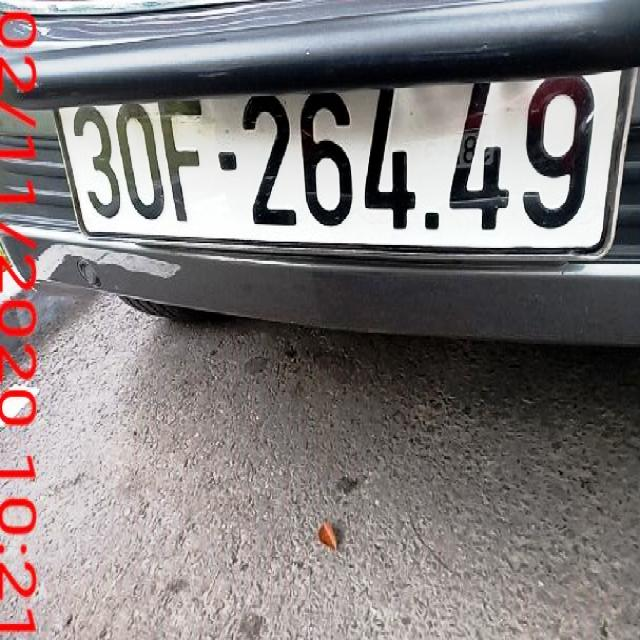license_plate: (55, 63, 639, 258)
